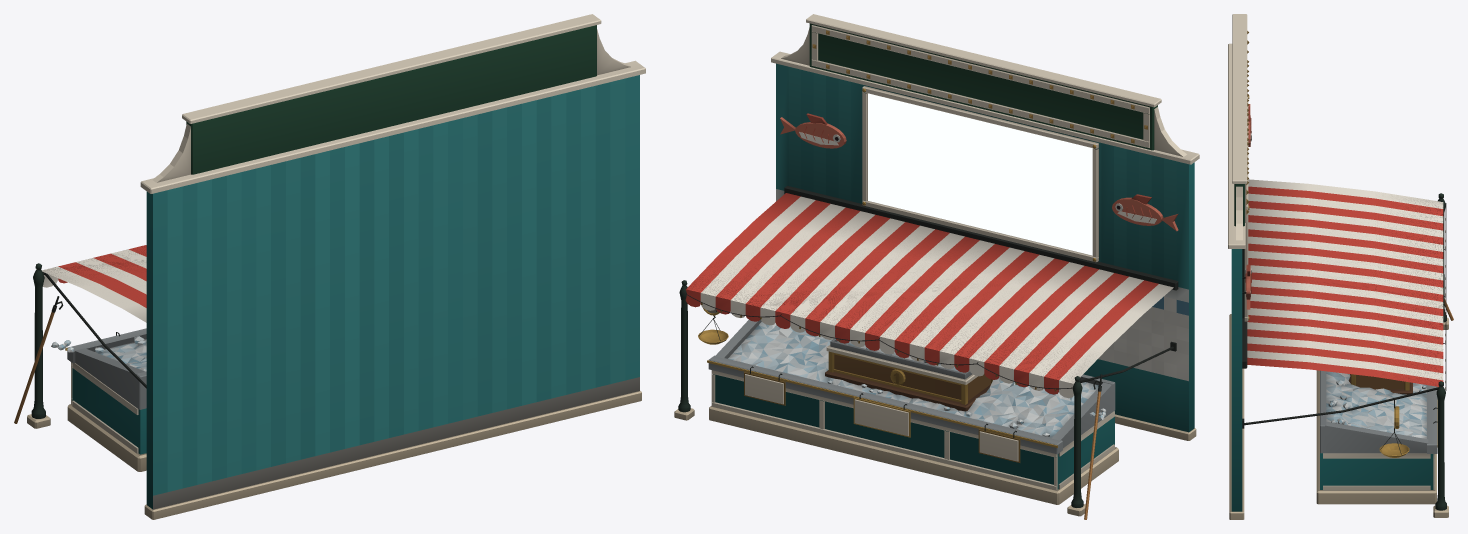
The model's file is pav_fishshowcase.glb.
3 renders of one model, left to right at view 1: azimuth 30°, elevation 25°; view 2: azimuth 150°, elevation 25°; view 3: azimuth 270°, elevation 25°, orthographic. The views are drawn at different scales.
Visible parts, largest first — view 1: static_fishshowcase; view 2: static_fishshowcase, live_board_records; view 3: static_fishshowcase.
Part boxes in pixels (left/top/right/bottom): static_fishshowcase: left=14, top=14, right=645, bottom=519; static_fishshowcase: left=674, top=14, right=1199, bottom=519; live_board_records: left=868, top=93, right=1092, bottom=255; static_fishshowcase: left=1228, top=14, right=1453, bottom=519.
Size of the model in its own units: 6.74 by 5.05 by 3.19.
